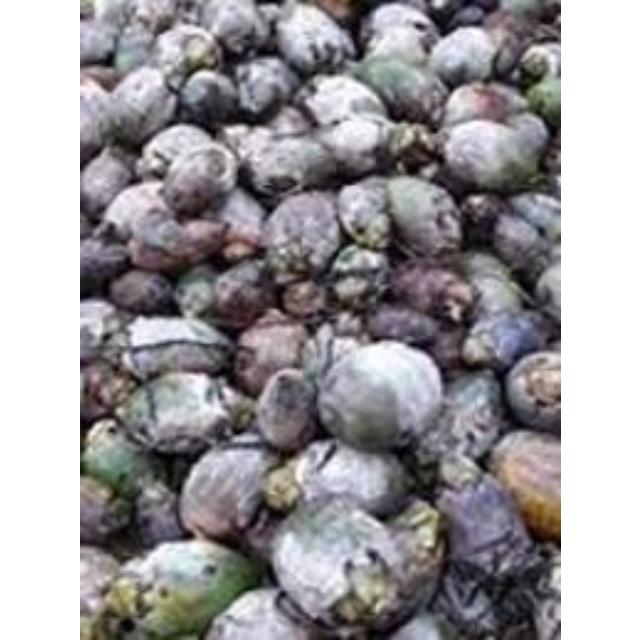damaged: (270, 491, 428, 634), (316, 345, 450, 445), (429, 472, 536, 586), (177, 434, 281, 546), (117, 372, 240, 456), (290, 438, 412, 518), (429, 552, 539, 638), (433, 116, 547, 196), (486, 429, 560, 546), (116, 314, 234, 384), (81, 420, 167, 506), (380, 175, 464, 262), (345, 56, 447, 124), (238, 128, 334, 200), (260, 192, 342, 274), (200, 586, 322, 640), (432, 372, 502, 464), (100, 67, 178, 147), (232, 316, 308, 398), (270, 2, 354, 74), (463, 309, 551, 375), (251, 368, 317, 452), (312, 118, 396, 184), (386, 260, 474, 322), (138, 122, 222, 184), (450, 252, 524, 321), (502, 350, 560, 436), (358, 2, 440, 62), (296, 73, 384, 127), (486, 208, 552, 280), (427, 26, 505, 86), (229, 54, 297, 122), (208, 257, 274, 327), (333, 177, 395, 250), (476, 9, 538, 82), (438, 80, 524, 130), (196, 0, 272, 56), (98, 182, 166, 244), (326, 243, 389, 309), (79, 146, 135, 218), (384, 496, 444, 562), (130, 479, 188, 547), (80, 543, 124, 631), (150, 22, 220, 76), (174, 67, 238, 126), (79, 474, 131, 544), (79, 78, 123, 160), (80, 358, 134, 424), (302, 327, 364, 379), (107, 268, 173, 316), (80, 298, 126, 366), (362, 304, 440, 344), (128, 233, 202, 274), (80, 234, 130, 294), (388, 122, 440, 176), (416, 316, 466, 372), (457, 190, 508, 243), (174, 262, 220, 318), (172, 218, 232, 260), (113, 17, 157, 74), (502, 112, 548, 158), (79, 16, 119, 68), (125, 1, 181, 36), (279, 278, 327, 318), (432, 158, 476, 198), (308, 1, 362, 30), (79, 62, 121, 94), (492, 0, 550, 22), (218, 122, 254, 154), (220, 237, 258, 266), (328, 309, 364, 339), (448, 5, 487, 29)
